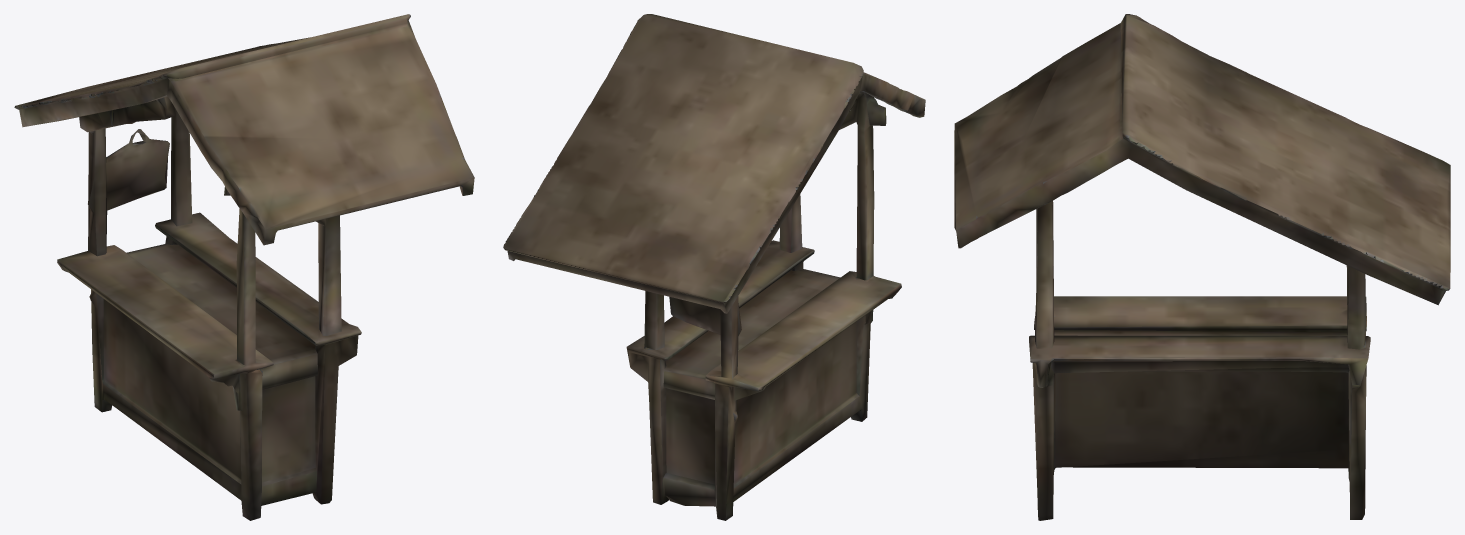
Rendered from old-wood-market-stall-v001.glb.
3 renders of one model, left to right at view 1: azimuth 30°, elevation 25°; view 2: azimuth 150°, elevation 25°; view 3: azimuth 270°, elevation 25°, orthographic. The views are drawn at different scales.
Parts seen in each view (by area): view 1: old-wood-market-stall; view 2: old-wood-market-stall; view 3: old-wood-market-stall.
Part boxes in pixels (box(x1,y1,x2,y2)): old-wood-market-stall: box(14, 14, 474, 520); old-wood-market-stall: box(503, 14, 925, 520); old-wood-market-stall: box(954, 14, 1450, 520).
Size of the model in its own units: 1.64 by 2.72 by 2.72.
1 material, 1 textured.
